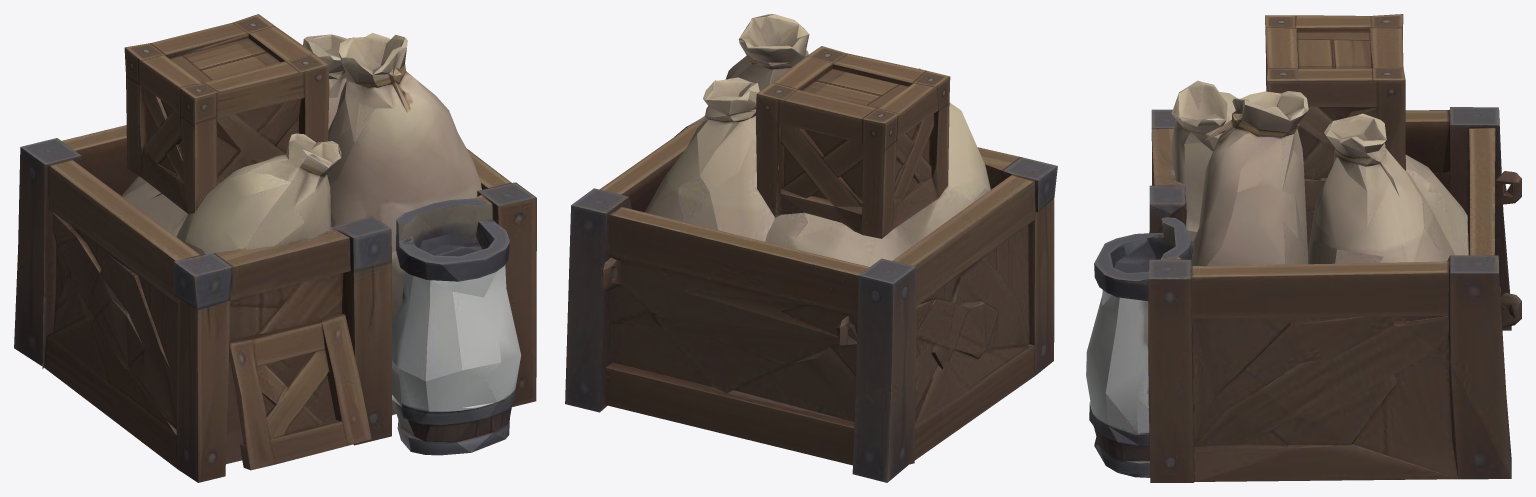
Rendered from crates.glb.
3 views of the same model, side by side, from view 1: azimuth 30°, elevation 25°; view 2: azimuth 150°, elevation 25°; view 3: azimuth 270°, elevation 25° (orthographic). The views are drawn at different scales.
Visible parts, largest first — view 1: crates; view 2: crates; view 3: crates.
Part boxes in pixels (box(x1,y1,x2,y2)): crates: box(14, 14, 536, 482); crates: box(565, 14, 1057, 482); crates: box(1086, 14, 1521, 482).
Size of the model in its own units: 1.5 by 1.5 by 1.66.
Materials: 1 (1 with a texture image).
